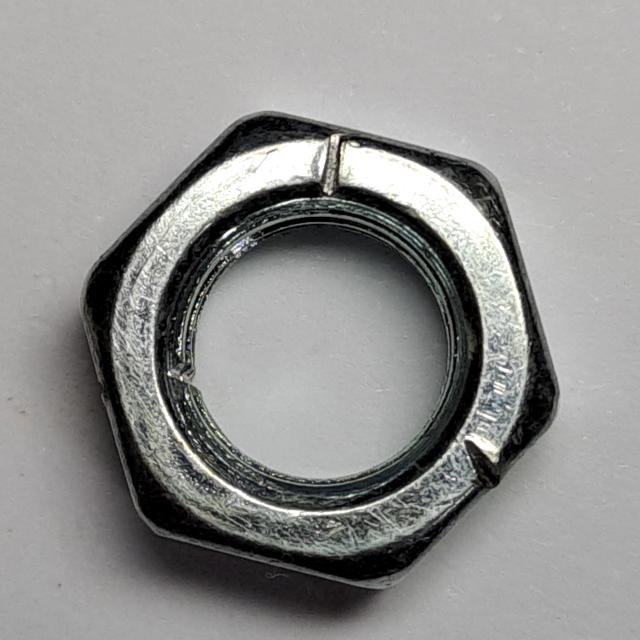Scratches: (66, 98, 567, 604)
